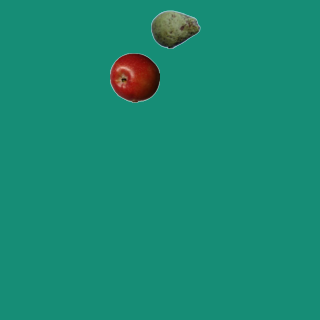Apple Braeburn: (109, 52, 159, 102)
Pear Stone: (150, 4, 200, 54)
